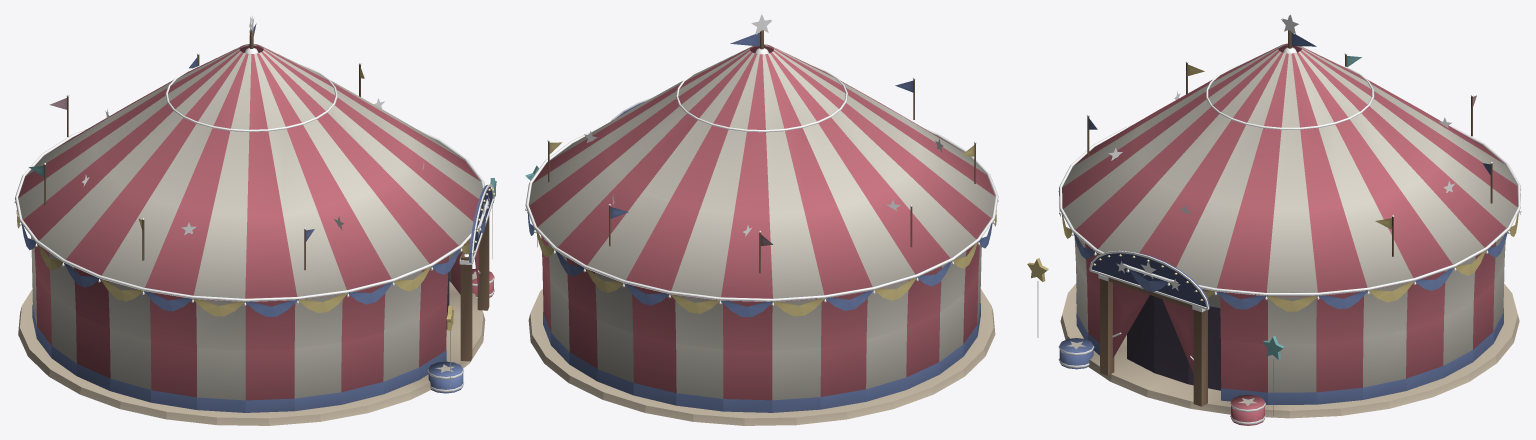
Rendered from circus_hq.glb.
3 views of the same model, side by side, from view 1: azimuth 30°, elevation 25°; view 2: azimuth 150°, elevation 25°; view 3: azimuth 270°, elevation 25° (orthographic). The views are drawn at different scales.
Parts seen in each view (by area): view 1: Circus_props, Circus_stone, Circus_gold; view 2: Circus_props, Circus_stone, Circus_gold; view 3: Circus_props, Circus_stone, Circus_gold.
Part boxes in pixels (<box>): Circus_props: <box>16,23,496,412</box>; Circus_stone: <box>18,281,485,425</box>; Circus_gold: <box>14,16,494,392</box>; Circus_props: <box>525,30,996,412</box>; Circus_stone: <box>528,289,995,425</box>; Circus_gold: <box>525,14,998,305</box>; Circus_props: <box>1027,29,1520,425</box>; Circus_stone: <box>1060,283,1519,418</box>; Circus_gold: <box>1058,14,1521,424</box>.
Bounding box in the file's own units: 14.84 × 9.96 × 14.54.
